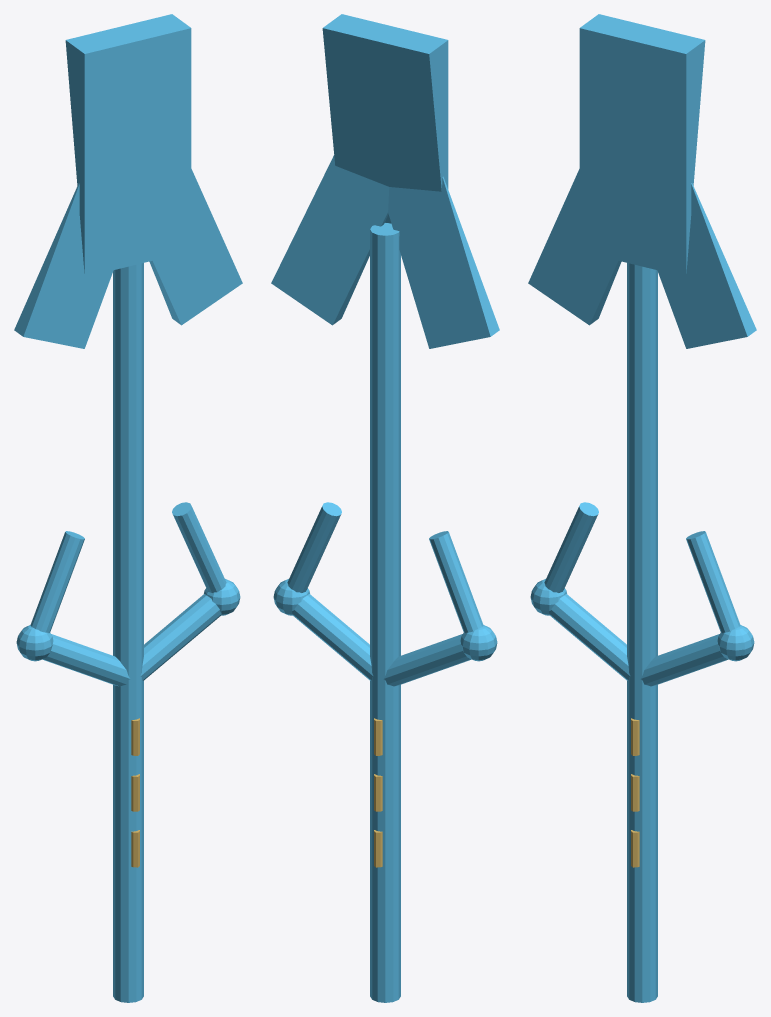
The model's file is WaterSpear.obj.
The picture shows the model from 3 angles, left to right: view 1: azimuth 30°, elevation 25°; view 2: azimuth 150°, elevation 25°; view 3: azimuth 330°, elevation 25°; orthographic projection.
Parts seen in each view (by area): view 1: WaterSpear; view 2: WaterSpear; view 3: WaterSpear.
Part boxes in pixels (x1=…): WaterSpear: x1=14, y1=14, x2=242, y2=1002; WaterSpear: x1=271, y1=14, x2=499, y2=1002; WaterSpear: x1=528, y1=14, x2=756, y2=1002.
Bounding box in the file's own units: 1.65 × 6.9 × 0.25.
